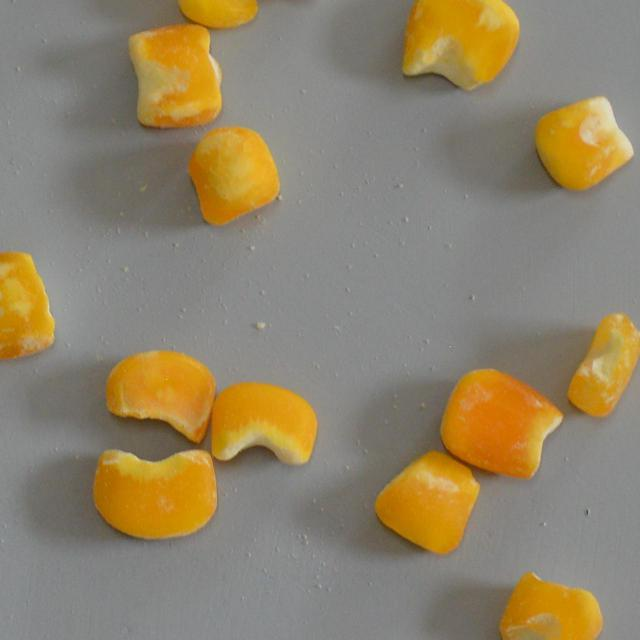agrietado: (400, 0, 522, 90)
dañado: (438, 367, 564, 482)
no_canjicado: (91, 446, 220, 542), (372, 450, 478, 556), (187, 124, 282, 227), (210, 380, 317, 466), (499, 570, 603, 640), (176, 0, 258, 29)
pelicula: (103, 346, 214, 443), (128, 22, 223, 130), (534, 94, 634, 194), (565, 311, 640, 418), (0, 248, 56, 364)
